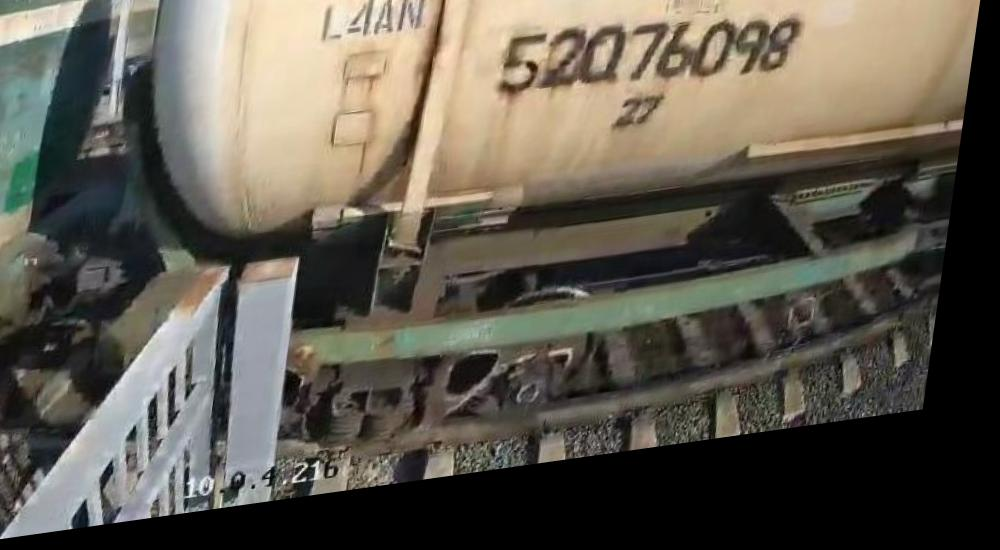Wagon-number: (495, 15, 812, 132)
